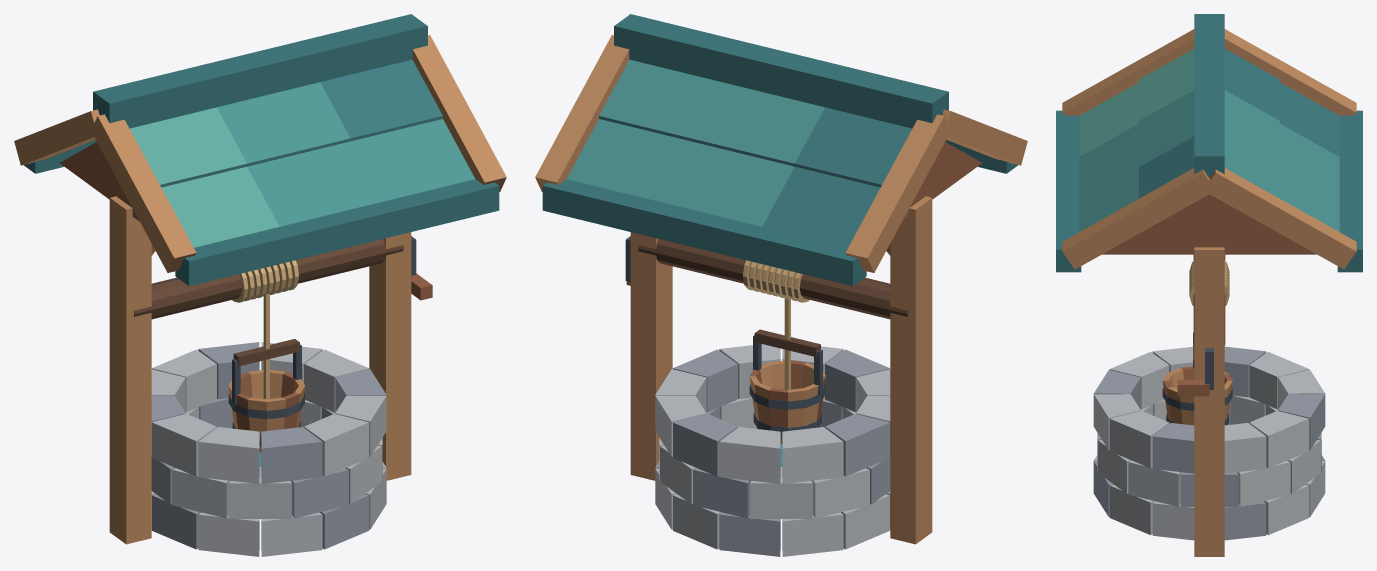
The model's file is well.glb.
3 renders of one model, left to right at view 1: azimuth 30°, elevation 25°; view 2: azimuth 150°, elevation 25°; view 3: azimuth 270°, elevation 25°, orthographic. The views are drawn at different scales.
Parts seen in each view (by area): view 1: well_建筑共用调色板; view 2: well_建筑共用调色板; view 3: well_建筑共用调色板.
Boxes of the visible parts, x1,y1,x2,y2 form: well_建筑共用调色板: (14,14,506,556); well_建筑共用调色板: (535,14,1027,556); well_建筑共用调色板: (1056,14,1362,556).
Size of the model in its own units: 2.1 by 2.68 by 1.83.
Materials: 1 (1 with a texture image).
